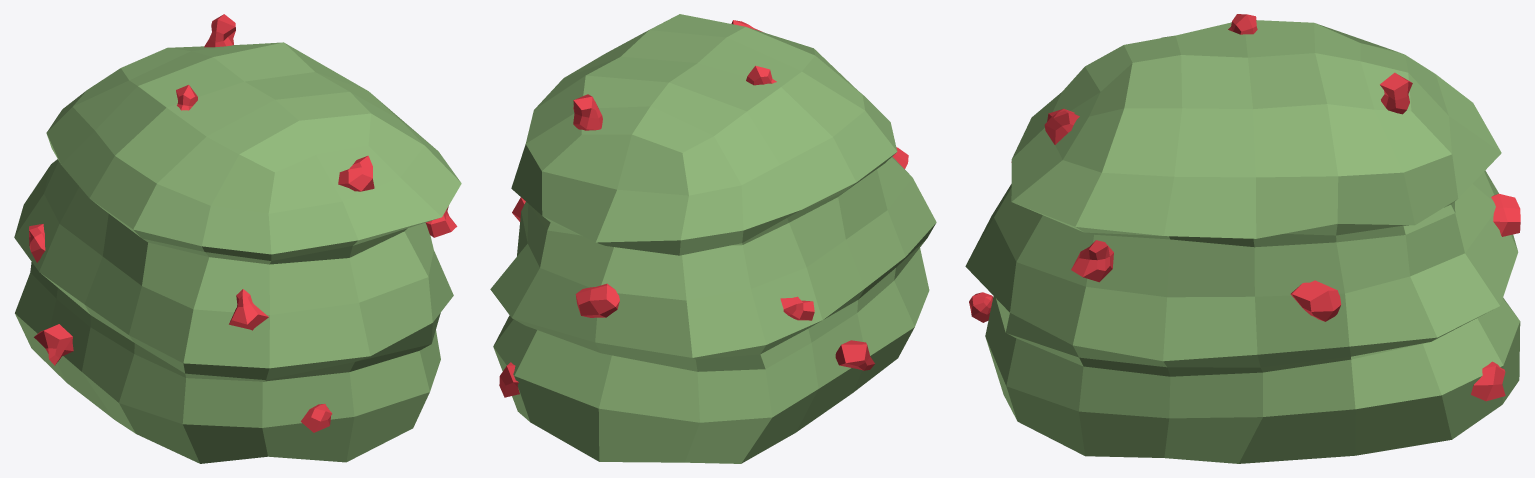
Rendered from bush_berries.glb.
The picture shows the model from 3 angles, left to right: view 1: azimuth 30°, elevation 25°; view 2: azimuth 150°, elevation 25°; view 3: azimuth 270°, elevation 25°; orthographic projection. The views are drawn at different scales.
Visible parts, largest first — view 1: BushBerries_1; view 2: BushBerries_1; view 3: BushBerries_1.
Part boxes in pixels (x1,y1,x2,y2): BushBerries_1: (14, 14, 461, 463); BushBerries_1: (490, 14, 936, 463); BushBerries_1: (965, 14, 1520, 463).
Bounding box in the file's own units: 1.39 × 1.28 × 1.72.
